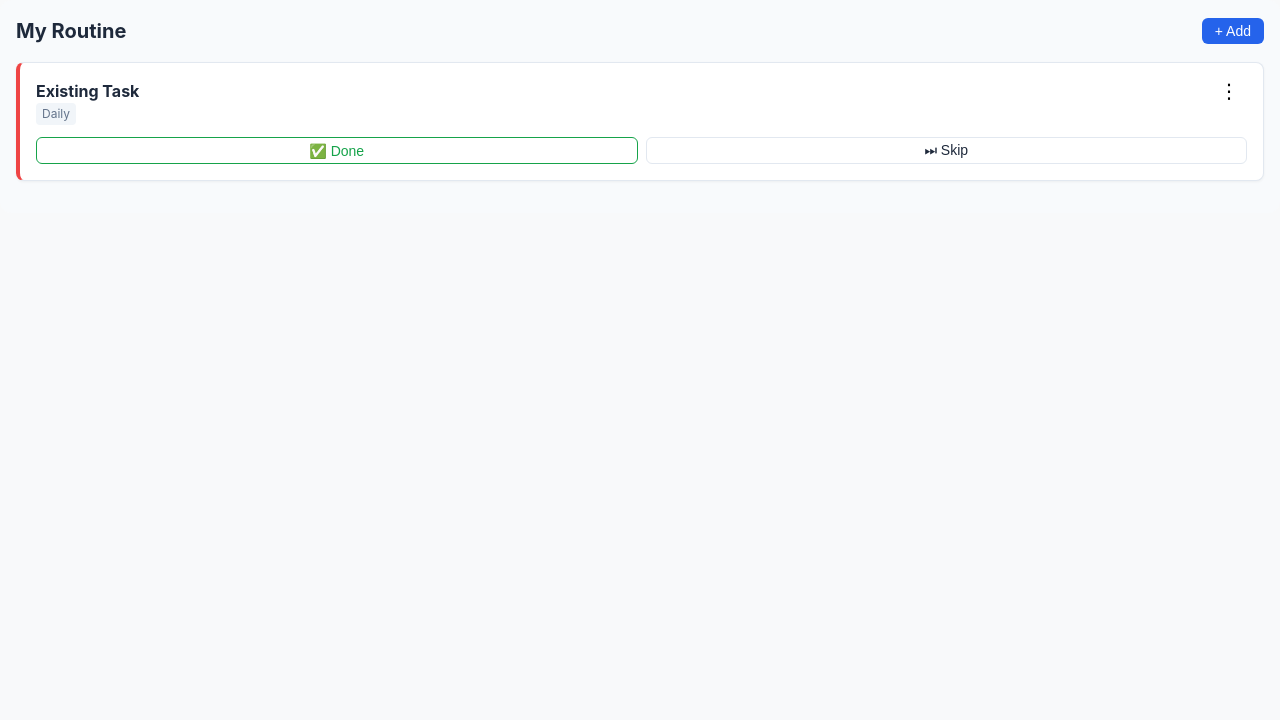
Scenario: SuggestionList › opens add modal when Add button is clicked
Click the button "+ Add" at (1233, 31), box [1202,18,1264,44]
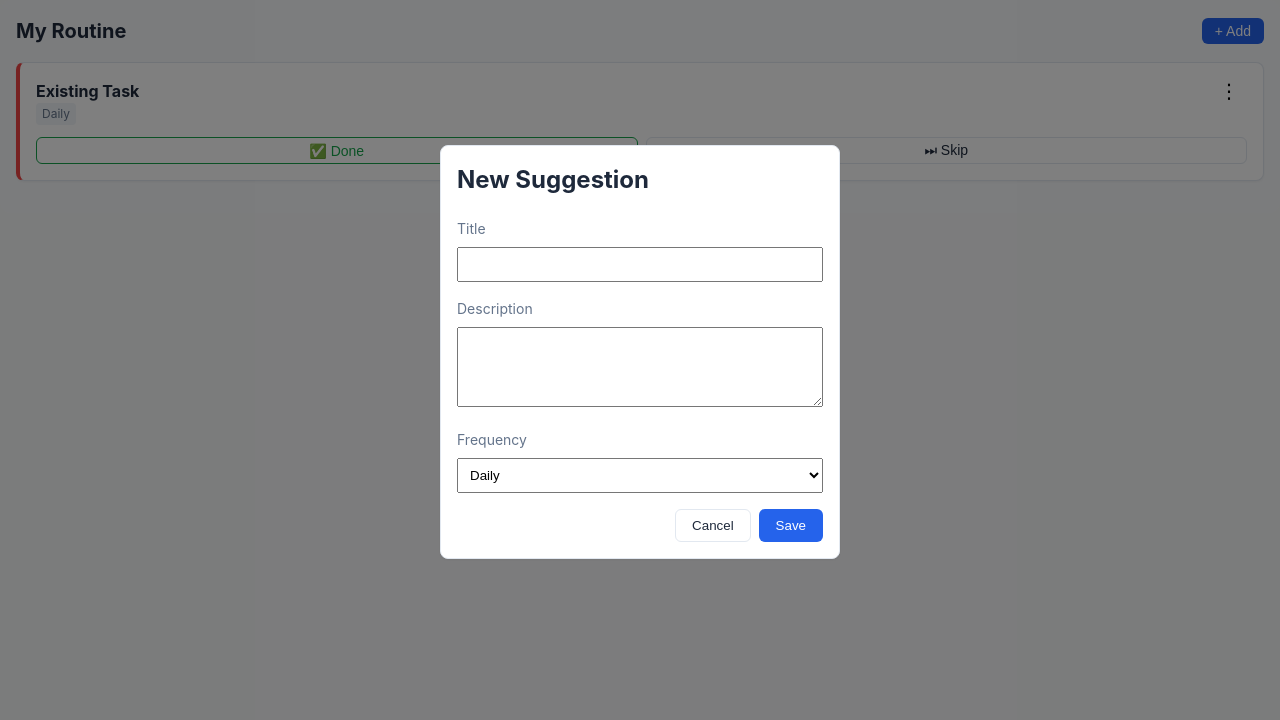
Expected: the heading "New Suggestion" is shown, [457,165,649,194]
